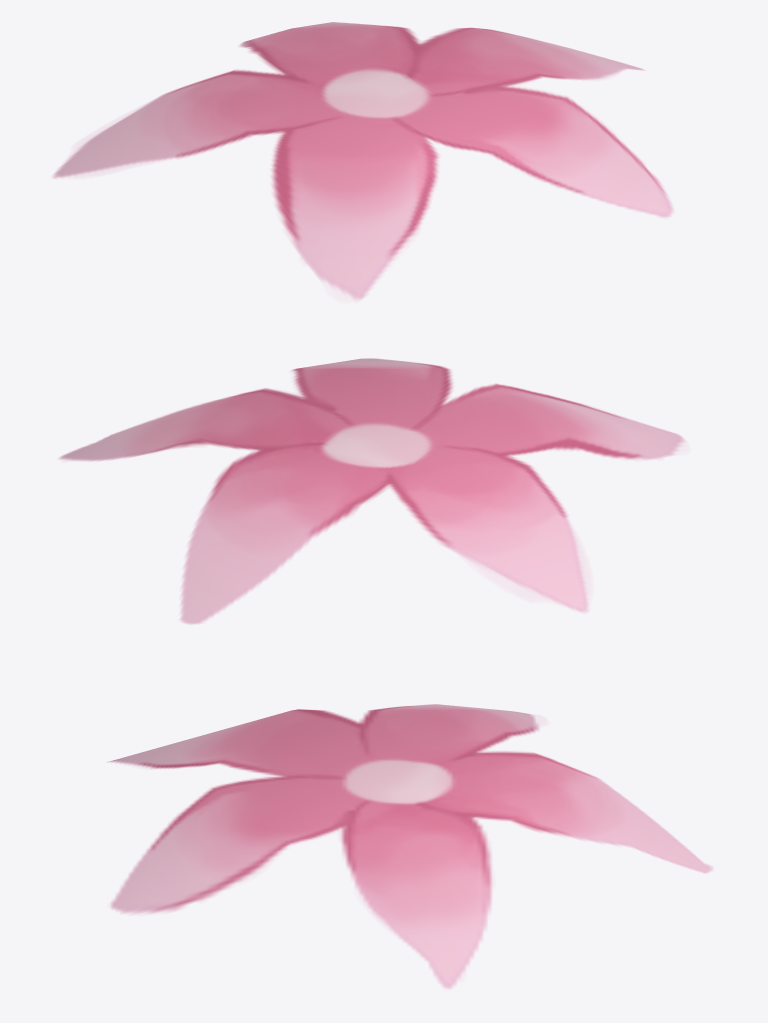
Rendered from flower1.glb.
3 views of the same model, one above another, from view 1: azimuth 30°, elevation 25°; view 2: azimuth 150°, elevation 25°; view 3: azimuth 270°, elevation 25° (orthographic).
Parts seen in each view (by area): view 1: flower_1; view 2: flower_1; view 3: flower_1.
Part boxes in pixels (bbox=[...]): flower_1: bbox=[53, 22, 673, 300]; flower_1: bbox=[59, 358, 685, 624]; flower_1: bbox=[107, 704, 712, 988].
Bounding box in the file's own units: 0.4143 × 0.0459 × 0.4143.
1 material, 1 textured.
